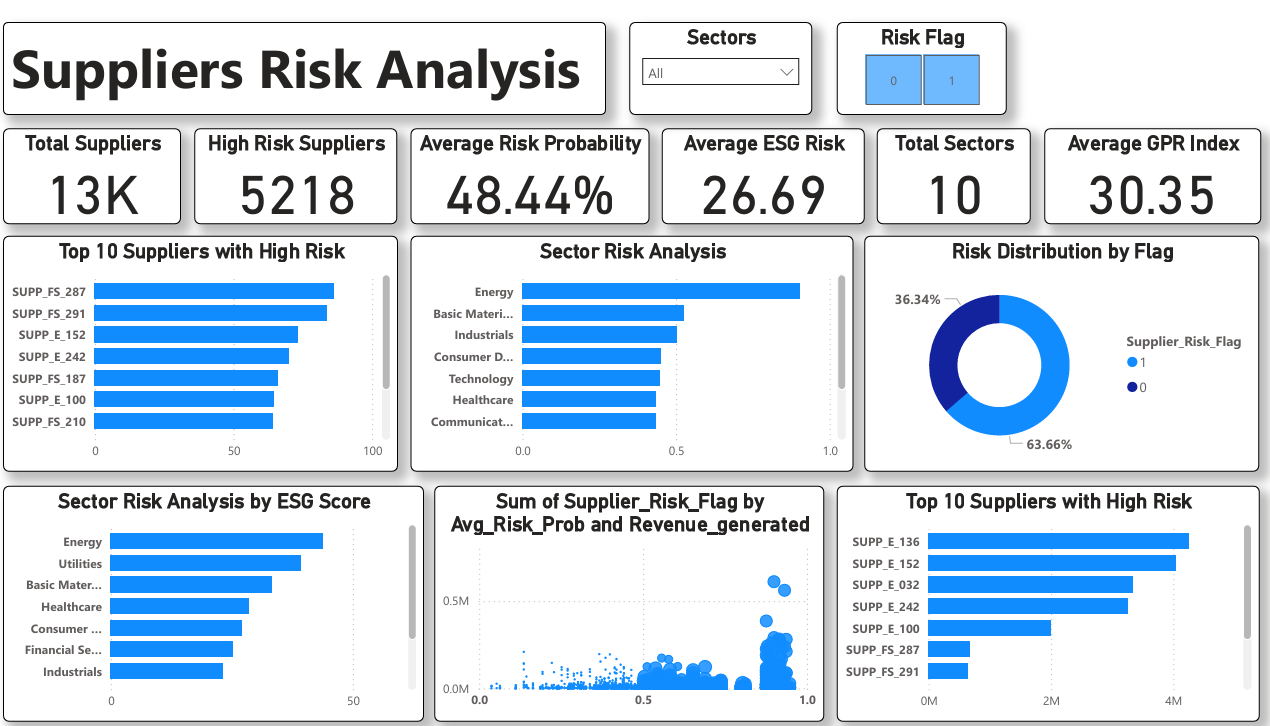

This screenshot's page, from the dashboard's own definition file:
{"tool":"powerbi","page":{"name":"Page 1","canvas":[1280,720],"ordinal":0},"visuals":[{"type":"textbox","box":[9.6,9.6,590.1,93.3],"z":0},{"type":"card","title":"Total Suppliers","fields":{"Values":["PowerBI.Total_suppliers"]},"box":[9.6,116.6,178.4,96.1],"z":1000},{"type":"card","title":"High Risk Suppliers","fields":{"Values":["PowerBI.High Risk Suppliers"]},"box":[201.7,116.6,203.1,96.1],"z":2000},{"type":"card","title":"Average Risk Probability","fields":{"Values":["PowerBI.Avg_risK_"]},"box":[417.2,116.6,238.8,96.1],"z":3000},{"type":"card","title":"Average ESG Risk","fields":{"Values":["PowerBI.Avg_esg"]},"box":[668.3,116.6,203.1,96.1],"z":4000},{"type":"card","title":"Total Sectors","fields":{"Values":["PowerBI.Total_sectors"]},"box":[883.7,116.6,153.7,96.1],"z":5000},{"type":"card","title":"Average GPR Index","fields":{"Values":["PowerBI.Avg_gpr"]},"box":[1051.1,116.6,216.8,96.1],"z":6000},{"type":"barChart","title":"Top 10 Suppliers with High Risk","fields":{"Category":["PowerBI.Supplier_Name_x"],"Y":["Sum(PowerBI.Avg_Risk_Prob)"]},"box":[9.6,223.7,395.2,236],"z":7000},{"type":"barChart","title":"Sector Risk Analysis","fields":{"Category":["PowerBI.Sector"],"Y":["Avg(PowerBI.Avg_Risk_Prob)"]},"box":[417.2,223.7,443.2,236],"z":8000},{"type":"donutChart","title":"Risk Distribution by Flag","fields":{"Category":["PowerBI.Supplier_Risk_Flag"],"Y":["Avg(PowerBI.Avg_Risk_Prob)"]},"box":[871.4,223.7,395.2,236],"z":9000},{"type":"barChart","title":"Sector Risk Analysis by ESG Score","fields":{"Category":["PowerBI.Sector"],"Y":["Avg(PowerBI.ESG_Risk_Score)"]},"box":[9.6,473.4,421.3,236],"z":10000},{"type":"scatterChart","fields":{"X":["PowerBI.Avg_Risk_Prob"],"Y":["PowerBI.Revenue_generated"],"Size":["Sum(PowerBI.Supplier_Risk_Flag)"]},"box":[441.9,473.4,389.7,236],"z":11000},{"type":"barChart","title":"Top 10 Suppliers with High Risk","fields":{"Category":["PowerBI.Supplier_Name_x"],"Y":["Sum(PowerBI.Revenue_generated)"]},"box":[843.9,473.4,422.6,236],"z":12000},{"type":"slicer","title":"Sectors","fields":{"Values":["PowerBI.Sector"]},"box":[613.4,9.6,183.9,93.3],"z":12001},{"type":"slicer","title":"Risk Flag","fields":{"Values":["PowerBI.Supplier_Risk_Flag"]},"box":[813.7,9.6,168.8,93.3],"z":12002}]}

Visuals, with their boxes in screenshot pixels (x1, y1, x2, y2), scaled from the page's 1280x720 canvas onto the 1270x726 screenshot:
textbox: locate(10, 10, 595, 104)
"Total Suppliers" card: locate(10, 118, 187, 214)
"High Risk Suppliers" card: locate(200, 118, 402, 214)
"Average Risk Probability" card: locate(414, 118, 651, 214)
"Average ESG Risk" card: locate(663, 118, 865, 214)
"Total Sectors" card: locate(877, 118, 1029, 214)
"Average GPR Index" card: locate(1043, 118, 1258, 214)
"Top 10 Suppliers with High Risk" barChart: locate(10, 226, 402, 464)
"Sector Risk Analysis" barChart: locate(414, 226, 854, 464)
"Risk Distribution by Flag" donutChart: locate(865, 226, 1257, 464)
"Sector Risk Analysis by ESG Score" barChart: locate(10, 477, 428, 715)
scatterChart - PowerBI.Avg_Risk_Prob x PowerBI.Revenue_generated: locate(438, 477, 825, 715)
"Top 10 Suppliers with High Risk" barChart: locate(837, 477, 1257, 715)
"Sectors" slicer: locate(609, 10, 791, 104)
"Risk Flag" slicer: locate(807, 10, 975, 104)
